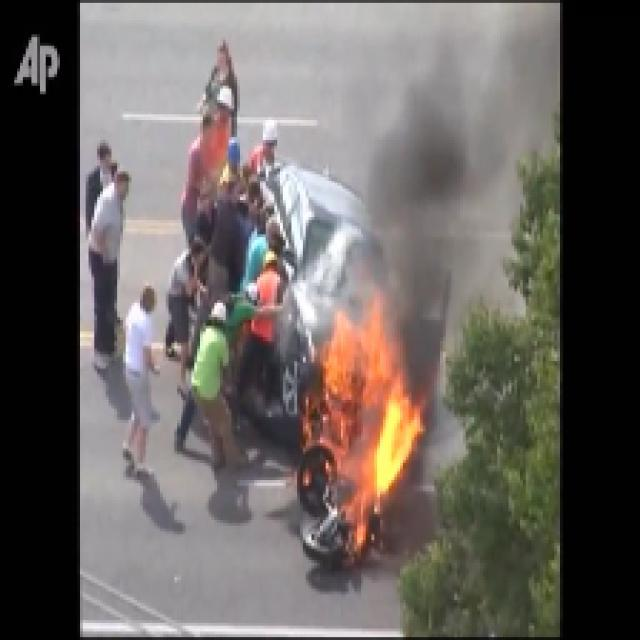Fire: (327, 322, 419, 516)
Smoke: (372, 70, 472, 314)
